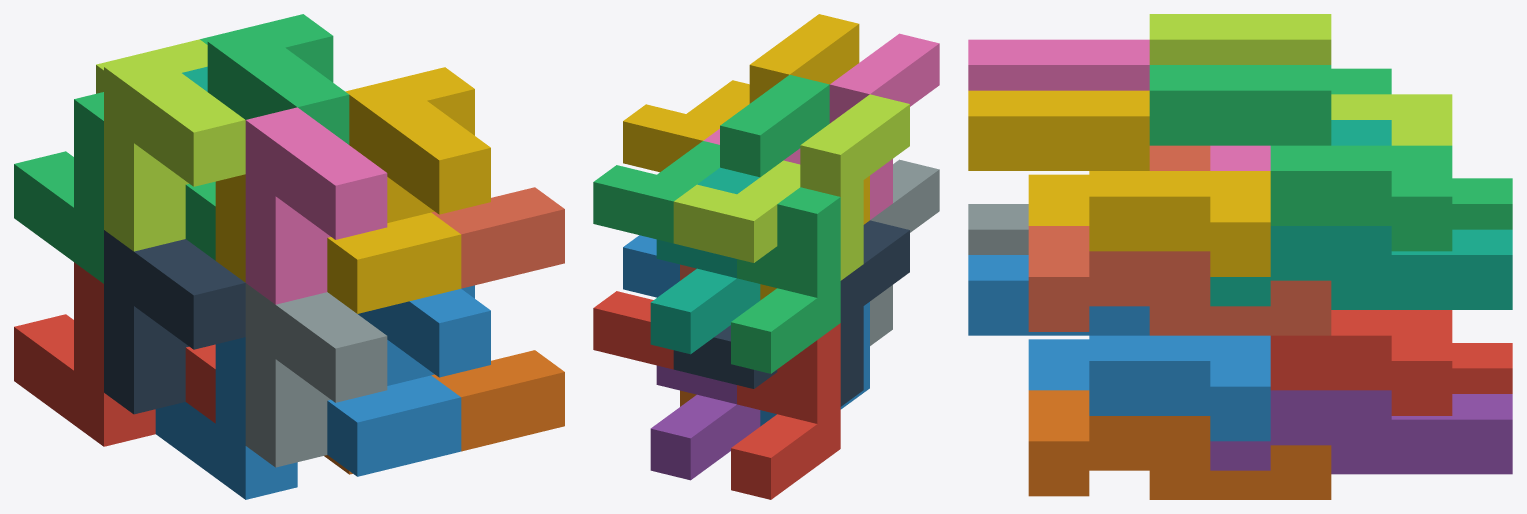
Rendered from tiling.obj.
The picture shows the model from 3 angles, left to right: view 1: azimuth 30°, elevation 25°; view 2: azimuth 150°, elevation 25°; view 3: azimuth 270°, elevation 25°; orthographic projection. The views are drawn at different scales.
Parts seen in each view (by area): view 1: copy_2_domain_3, copy_2_domain_4, copy_1_domain_2, copy_2_domain_2, copy_2_domain_1, copy_2_domain_8, copy_1_domain_1, copy_1_domain_4, copy_1_domain_3, copy_2_domain_7, copy_1_domain_6, copy_2_domain_6 (+1 smaller); view 2: copy_2_domain_3, copy_2_domain_7, copy_1_domain_3, copy_1_domain_1, copy_2_domain_8, copy_1_domain_7, copy_2_domain_1, copy_1_domain_5, copy_2_domain_4, copy_2_domain_2, copy_2_domain_5, copy_2_domain_6 (+2 smaller); view 3: copy_2_domain_7, copy_2_domain_8, copy_2_domain_6, copy_1_domain_8, copy_1_domain_7, copy_1_domain_6, copy_1_domain_5, copy_2_domain_5, copy_2_domain_3, copy_2_domain_4, copy_1_domain_3, copy_1_domain_2 (+3 smaller).
Boxes of the visible parts, x1,y1,x2,y2 form: copy_2_domain_3: (96,39,245,251); copy_2_domain_4: (245,107,387,304); copy_1_domain_2: (155,337,461,499); copy_2_domain_2: (245,283,387,467); copy_2_domain_1: (104,230,245,414); copy_2_domain_8: (345,67,490,222); copy_1_domain_1: (14,262,215,446); copy_1_domain_4: (215,174,461,313); copy_1_domain_3: (14,92,215,283); copy_2_domain_7: (200,14,349,144); copy_1_domain_6: (324,350,564,474); copy_2_domain_6: (358,285,490,385); copy_2_domain_3: (673,94,909,280); copy_2_domain_7: (593,74,829,243); copy_1_domain_3: (731,187,840,373); copy_1_domain_1: (731,323,840,499); copy_2_domain_8: (623,14,859,172); copy_1_domain_7: (650,167,760,354); copy_2_domain_1: (673,220,909,406); copy_1_domain_5: (650,365,760,480); copy_2_domain_4: (703,33,939,219); copy_2_domain_2: (870,159,939,345); copy_2_domain_5: (593,291,673,369); copy_2_domain_6: (623,235,679,297); copy_2_domain_7: (1149,65,1452,251); copy_2_domain_8: (968,90,1270,276); copy_2_domain_6: (968,255,1270,441); copy_1_domain_8: (1028,145,1331,335); copy_1_domain_7: (1210,120,1512,309); copy_1_domain_6: (1028,390,1331,499); copy_1_domain_5: (1210,390,1512,474); copy_2_domain_5: (1270,310,1452,415); copy_2_domain_3: (1149,14,1452,145); copy_2_domain_4: (968,39,1270,170); copy_1_domain_3: (1331,68,1512,229); copy_1_domain_2: (1028,339,1089,390).
Bounding box in the file's own units: 6 × 7 × 9.
